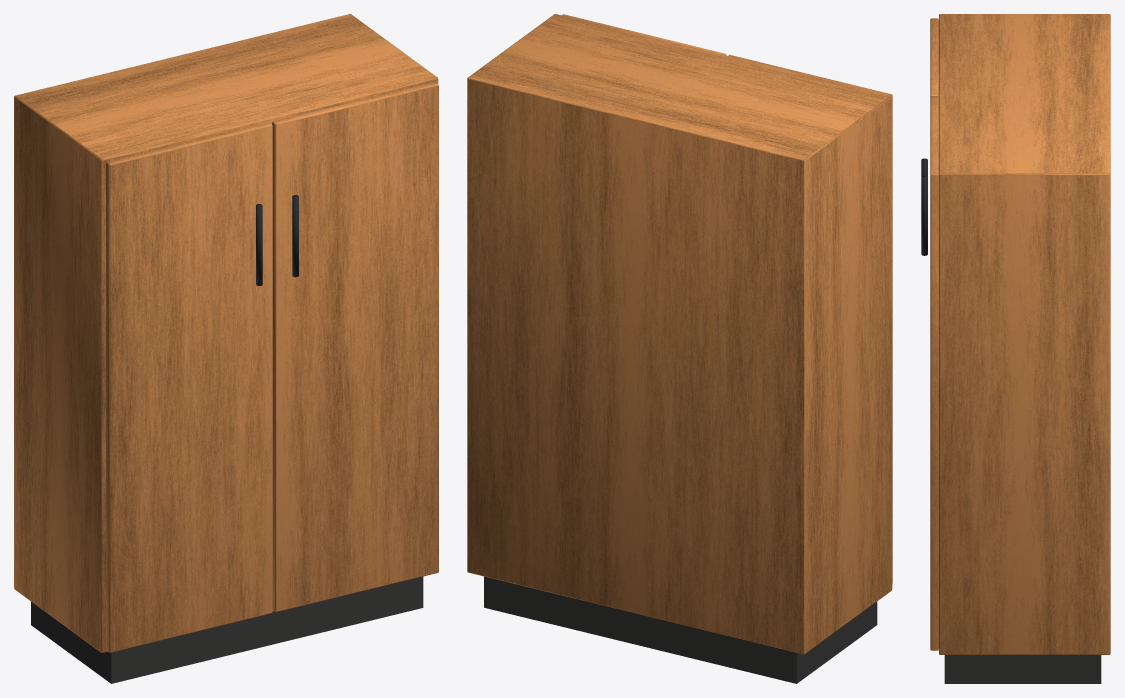
The model's file is storage.cabinet-tall.glb.
3 renders of one model, left to right at view 1: azimuth 30°, elevation 25°; view 2: azimuth 150°, elevation 25°; view 3: azimuth 270°, elevation 25°, orthographic. The views are drawn at different scales.
Parts seen in each view (by area): view 1: storage.cabinet-tall.001; view 2: storage.cabinet-tall.001; view 3: storage.cabinet-tall.001.
Part boxes in pixels (x1,y1,x2,y2): storage.cabinet-tall.001: (14, 14, 438, 683); storage.cabinet-tall.001: (467, 14, 892, 683); storage.cabinet-tall.001: (921, 14, 1110, 683).
Size of the model in its own units: 0.8 by 1.2 by 0.399.
Materials: 3 (1 with a texture image).
